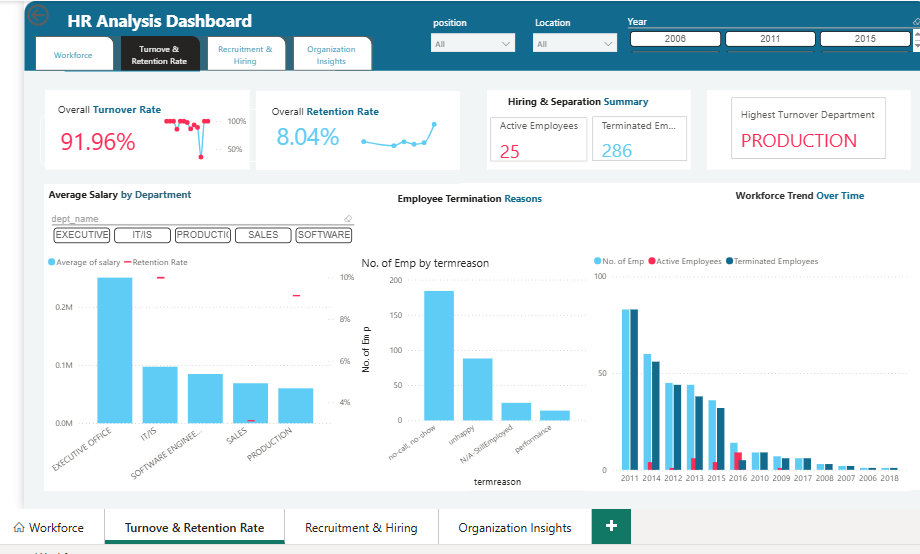

The page's visual inventory and layout, read from the dashboard file:
{"tool":"powerbi","page":{"name":"Turnove &  Retention Rate","canvas":[1280,720],"ordinal":1},"visuals":[{"type":"shape","box":[618,258,661.9,435.1],"z":0},{"type":"shape","box":[28.9,258.7,602.6,435.2],"z":1000},{"type":"shape","box":[29.3,125.5,290.1,113],"z":2000},{"type":"clusteredColumnChart","fields":{"Category":["Calendar_Hire.Year"],"Y":["fact_hr_snapshot.No. of Emp","dim_emp_status.Active Employees","dim_emp_status.Terminated Employees"]},"box":[802.2,348.7,453.5,345.8],"z":3000},{"type":"lineStackedColumnComboChart","fields":{"Category":["dim_department.dept_name"],"Y":["Avg(fact_hr_snapshot.salary)"],"Y2":["dim_emp_status.Retention Rate"]},"box":[28.3,350.1,445,344.4],"z":4000},{"type":"shape","box":[328.8,127.6,289.1,112],"z":5000},{"type":"shape","box":[655.6,125.5,288.7,113],"z":6000},{"type":"shape","box":[968,125.5,288.7,113],"z":7000},{"type":"card","title":"Overall Turnover Rate","fields":{"Values":["dim_emp_status.Retention Rate"]},"box":[304.7,153.1,192.8,75.1],"z":8000},{"type":"lineChart","fields":{"Category":["Calendar_Hire.Year"],"Y":["dim_emp_status.Retention Rate"]},"box":[451.4,152.9,144.3,61.4],"z":9000},{"type":"Timeline1447991079100","box":[839.2,22.3,440.8,65.6],"z":10000},{"type":"cardVisual","fields":{"Data":["dim_emp_status.Terminated Employees"]},"box":[800.8,158.7,144.6,73.7],"z":11000},{"type":"textbox","box":[29.8,259.4,275,39.7],"z":12000},{"type":"textbox","box":[1003.5,260.8,276.4,39.7],"z":13000},{"type":"textbox","box":[33.5,138.1,174.4,40.5],"z":14000},{"type":"textbox","box":[340.1,139.8,173.7,40.1],"z":15000},{"type":"textbox","box":[653.4,127.6,263.6,39.7],"z":16000},{"type":"actionButton","box":[101.1,62.2,99.9,40],"z":17000},{"type":"actionButton","box":[249.4,62.4,151.7,39.7],"z":18000},{"type":"slicer","fields":{"Values":["dim_position.position"]},"box":[566.2,16.7,138.6,71.8],"z":19000},{"type":"textbox","box":[57.2,5.6,344.5,58.6],"z":20000},{"type":"slicer","fields":{"Values":["dim_department.dept_name"]},"box":[711.5,17,138.9,70.9],"z":21000},{"type":"lineStackedColumnComboChart","fields":{"Category":["Calendar_Hire.Year"],"Y2":["dim_emp_status.Turnover Rate"]},"box":[184.3,153.1,136.1,86.5],"z":22000},{"type":"card","title":"Overall Retention Rate","fields":{"Values":["dim_emp_status.Turnover Rate"]},"box":[22.7,158.7,161.6,76.5],"z":23000},{"type":"ChicletSlicer1448559807354","fields":{"Category":["dim_department.dept_name"]},"box":[34,296.2,439.4,63.8],"z":24000},{"type":"cardVisual","fields":{"Data":["dim_emp_status.Active Employees"]},"box":[655.7,160,147.1,72.9],"z":25000},{"type":"clusteredColumnChart","fields":{"Category":["dim_emp_status.termreason"],"Y":["fact_hr_snapshot.No. of Emp"]},"box":[473.4,360,328.8,334.5],"z":26000},{"type":"cardVisual","fields":{"Data":["dim_department.Highest Turnover Department"]},"box":[997.8,131.8,229.6,97.8],"z":27000},{"type":"actionButton","box":[0,0,100,40],"z":28000},{"type":"textbox","box":[524.4,265,219.7,31.2],"z":29000}]}

Visuals, with their boxes on the page's 1280x720 design canvas (x1, y1, x2, y2). These are canvas units, not pixel positions in the 920x554 screenshot, which may show the page scaled, cropped or inside an application window:
shape: detection(618, 258, 1280, 693)
shape: detection(29, 259, 632, 694)
shape: detection(29, 126, 319, 238)
clusteredColumnChart - Calendar_Hire.Year x fact_hr_snapshot.No. of Emp: detection(802, 349, 1256, 694)
lineStackedColumnComboChart - dim_department.dept_name x Avg(fact_hr_snapshot.salary): detection(28, 350, 473, 694)
shape: detection(329, 128, 618, 240)
shape: detection(656, 126, 944, 238)
shape: detection(968, 126, 1257, 238)
"Overall Turnover Rate" card: detection(305, 153, 498, 228)
lineChart - Calendar_Hire.Year x dim_emp_status.Retention Rate: detection(451, 153, 596, 214)
Timeline1447991079100: detection(839, 22, 1280, 88)
cardVisual - dim_emp_status.Terminated Employees: detection(801, 159, 945, 232)
textbox: detection(30, 259, 305, 299)
textbox: detection(1004, 261, 1280, 300)
textbox: detection(34, 138, 208, 179)
textbox: detection(340, 140, 514, 180)
textbox: detection(653, 128, 917, 167)
actionButton: detection(101, 62, 201, 102)
actionButton: detection(249, 62, 401, 102)
slicer - dim_position.position: detection(566, 17, 705, 88)
textbox: detection(57, 6, 402, 64)
slicer - dim_department.dept_name: detection(712, 17, 850, 88)
lineStackedColumnComboChart - Calendar_Hire.Year x dim_emp_status.Turnover Rate: detection(184, 153, 320, 240)
"Overall Retention Rate" card: detection(23, 159, 184, 235)
ChicletSlicer1448559807354 - dim_department.dept_name: detection(34, 296, 473, 360)
cardVisual - dim_emp_status.Active Employees: detection(656, 160, 803, 233)
clusteredColumnChart - dim_emp_status.termreason x fact_hr_snapshot.No. of Emp: detection(473, 360, 802, 694)
cardVisual - dim_department.Highest Turnover Department: detection(998, 132, 1227, 230)
actionButton: detection(0, 0, 100, 40)
textbox: detection(524, 265, 744, 296)
